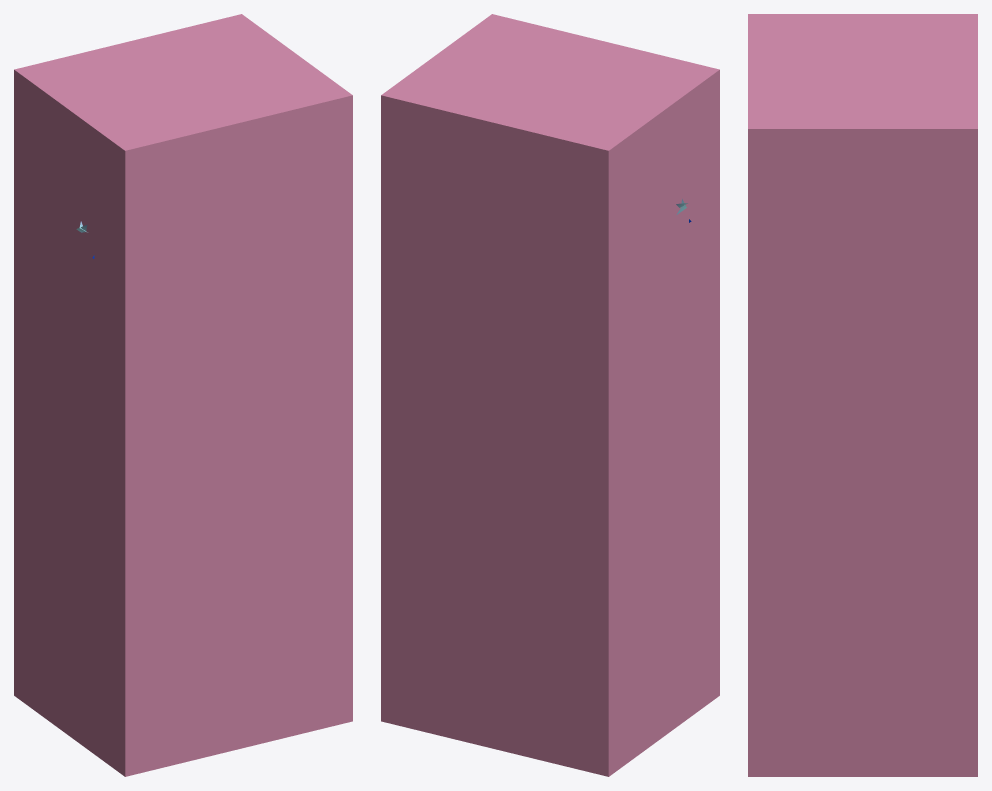
The model's file is tree_beech_forest_b.dae.
The picture shows the model from 3 angles, left to right: view 1: azimuth 30°, elevation 25°; view 2: azimuth 150°, elevation 25°; view 3: azimuth 270°, elevation 25°; orthographic projection. The views are drawn at different scales.
Parts seen in each view (by area): view 1: Untitled; view 2: Untitled; view 3: Untitled.
Part boxes in pixels (box(x1,y1,x2,y2)): Untitled: box(14, 14, 352, 776); Untitled: box(381, 14, 719, 776); Untitled: box(748, 14, 977, 776).
Bounding box in the file's own units: 8.58 × 7 × 21.77.
